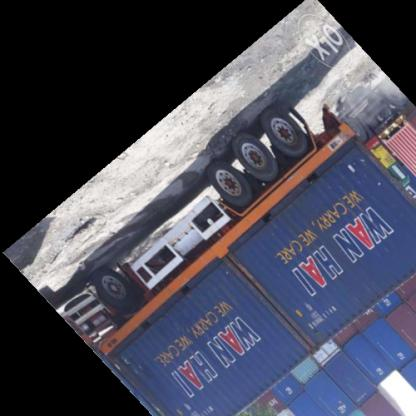Damage: (225, 254, 328, 360), (103, 353, 172, 415)
